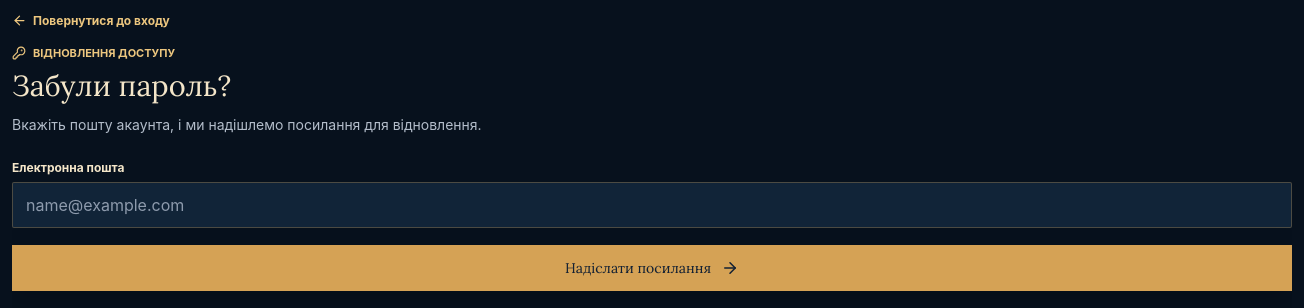
it: password recovery › always shows the generic forgot-password confirmation
In the field labelled "Електронна пошта": [652, 206] box [12, 182, 1292, 228], type "unknown@example.com"
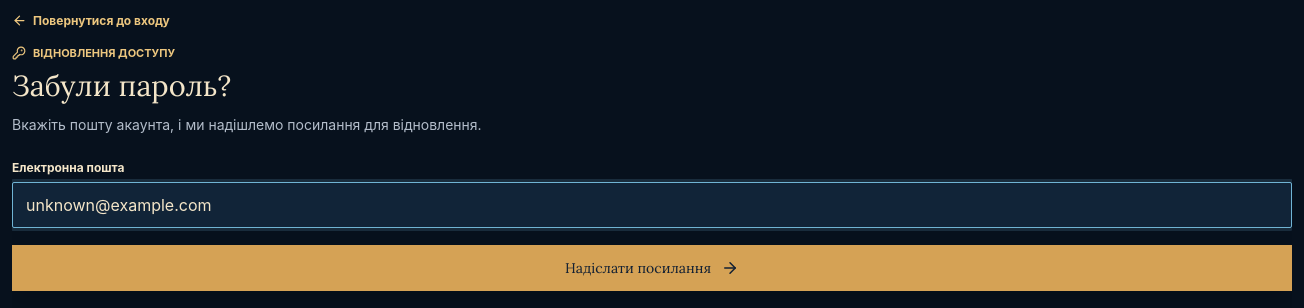
Click the button "Надіслати посилання": [652, 268] box [12, 246, 1292, 292]
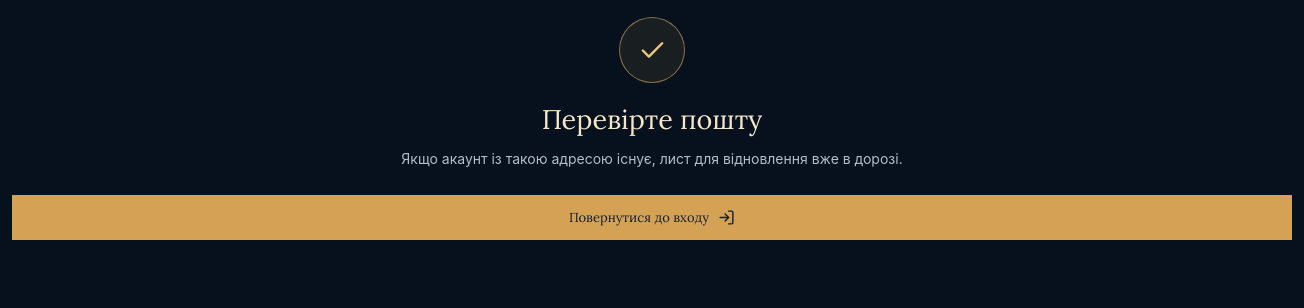
Expected: the heading "Перевірте пошту" is shown, [542, 103, 762, 136]
Expected: the text "Якщо акаунт із такою адресою існує" is shown, [401, 150, 903, 167]
